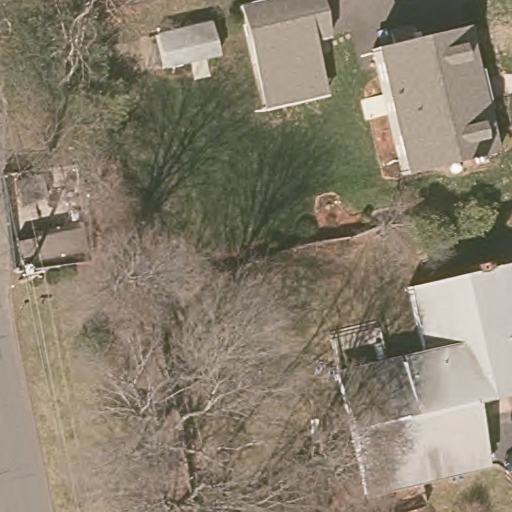DT: (10, 250, 61, 288)
